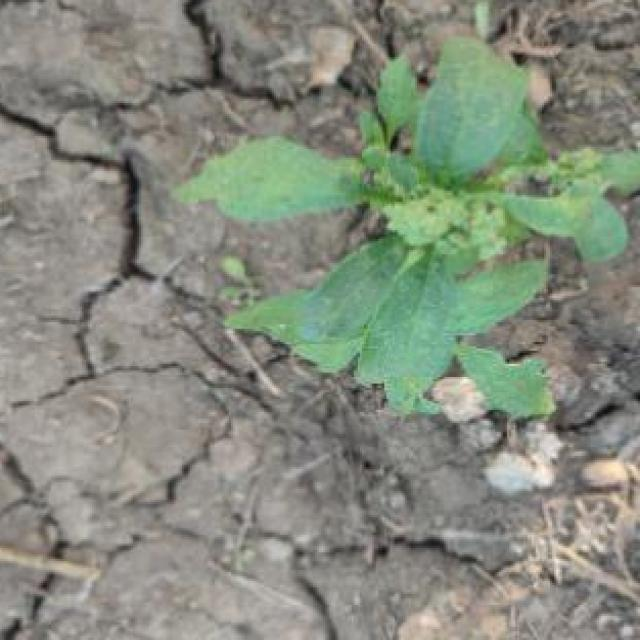weed: (172, 0, 640, 555)
